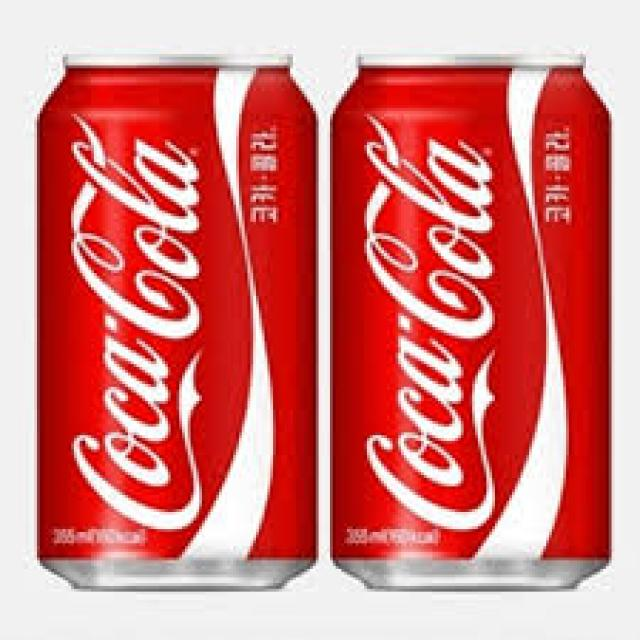Coca-Cola: (325, 39, 612, 599), (34, 39, 321, 595)
